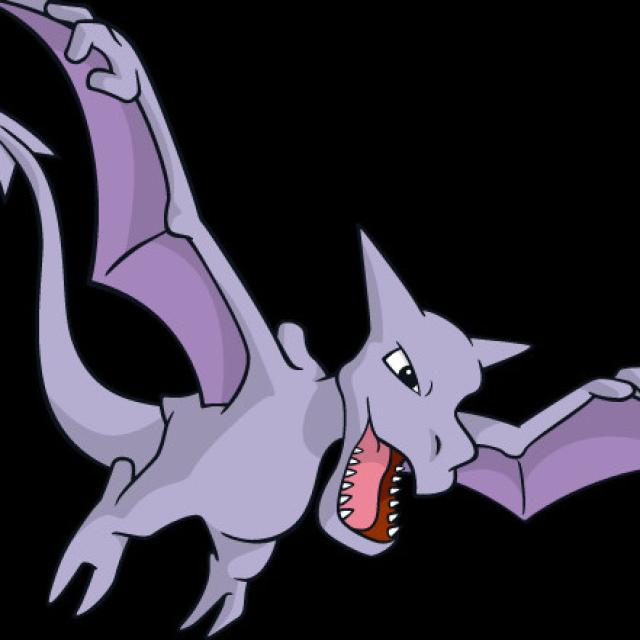Aerodactyl: (50, 230, 552, 600)
